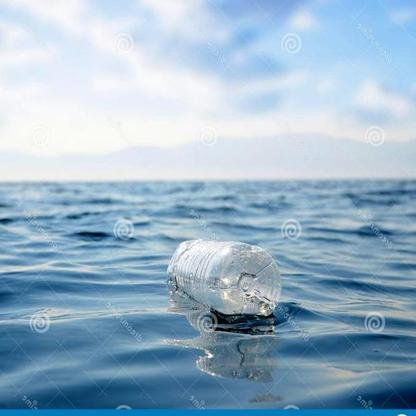plastic bottle: (167, 239, 282, 319)
